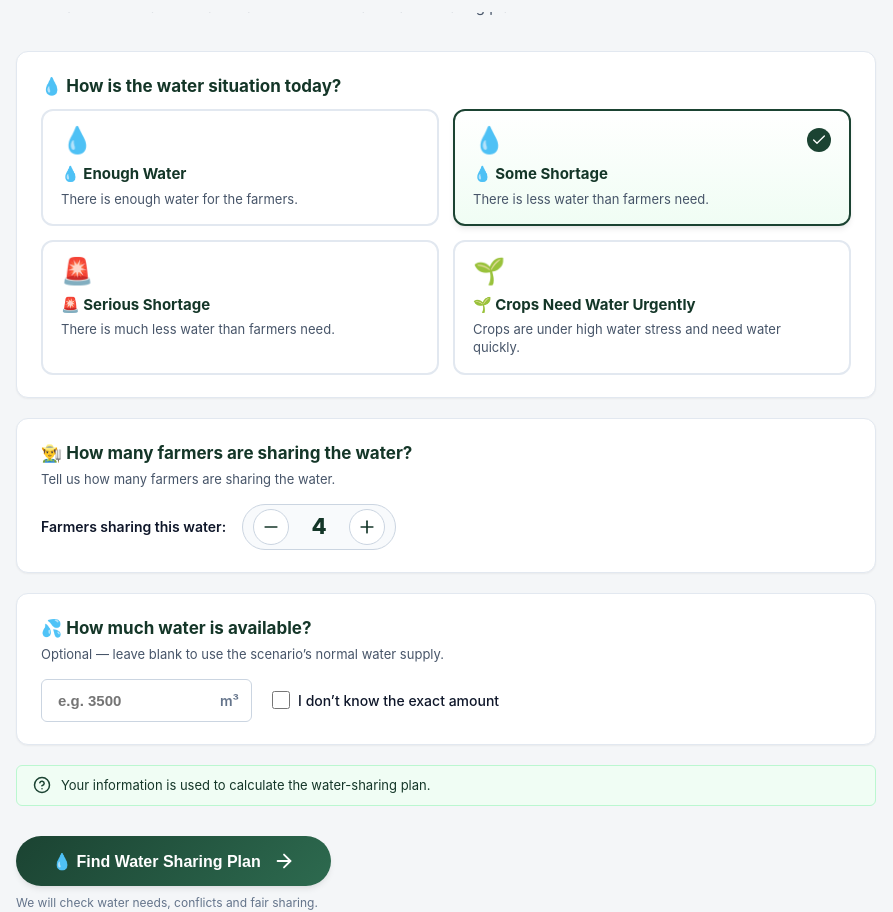
Test: Phase 9 UX Enhancement: Two Presentation Modes › Farmer Scenario stepper increments and decrements farmer count within bounds (2 to 20)
The image size is (893, 912).
(page scrolled)
Expected: the text with test id "farmer-count-val" reads "4", [312,513,327,539]
Click the button named "Increase farmers count": (367, 527) [349,509,385,545]
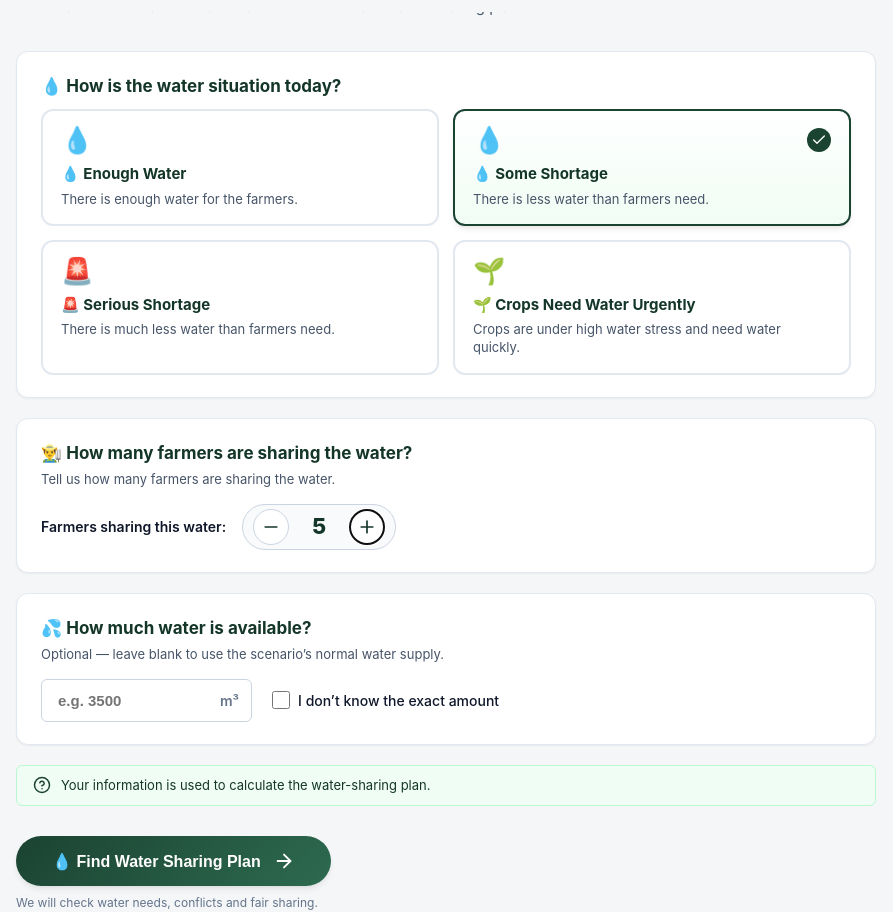
Expected: the text with test id "farmer-count-val" reads "5", [312,513,326,539]
// Decrement twice
Click the button named "Decrease farmers count": (271, 527) [253,509,289,545]
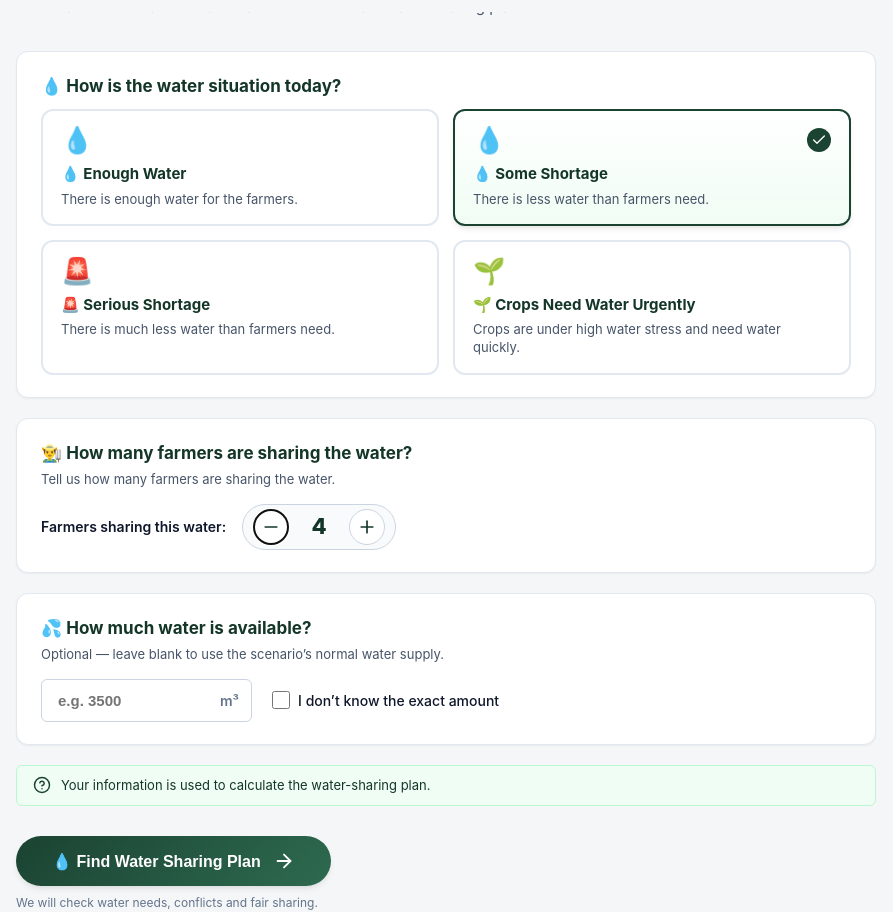
Click the button named "Decrease farmers count": (271, 527) [253,509,289,545]
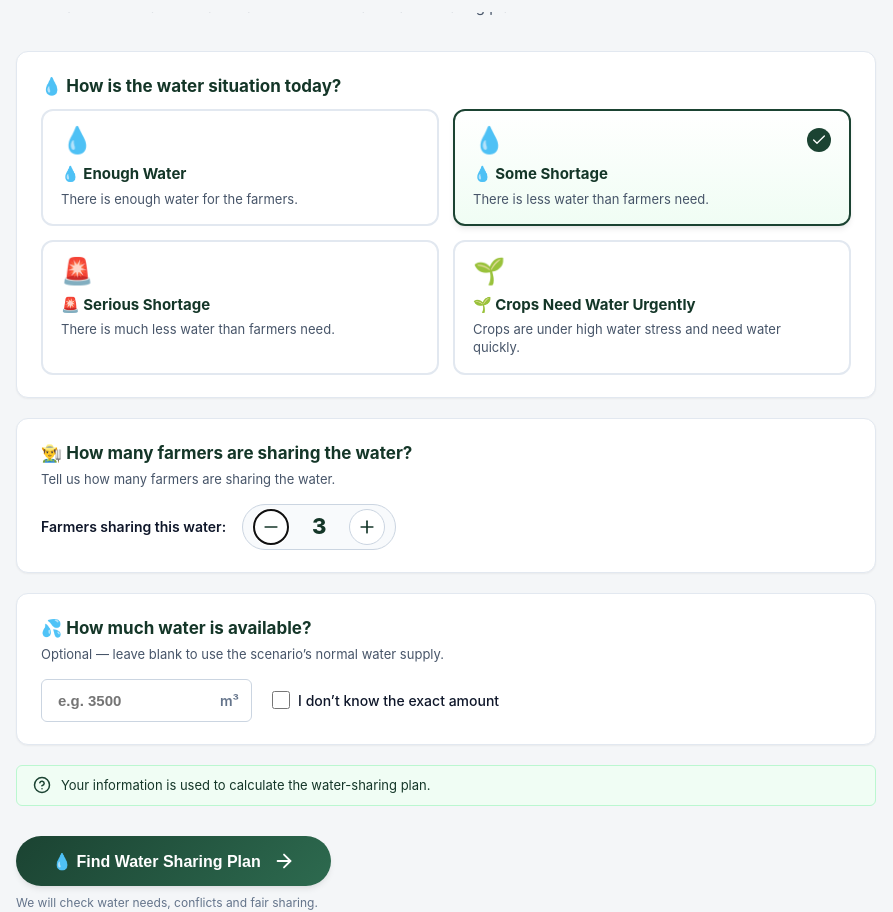
Expected: the text with test id "farmer-count-val" reads "3", [312,513,326,539]
